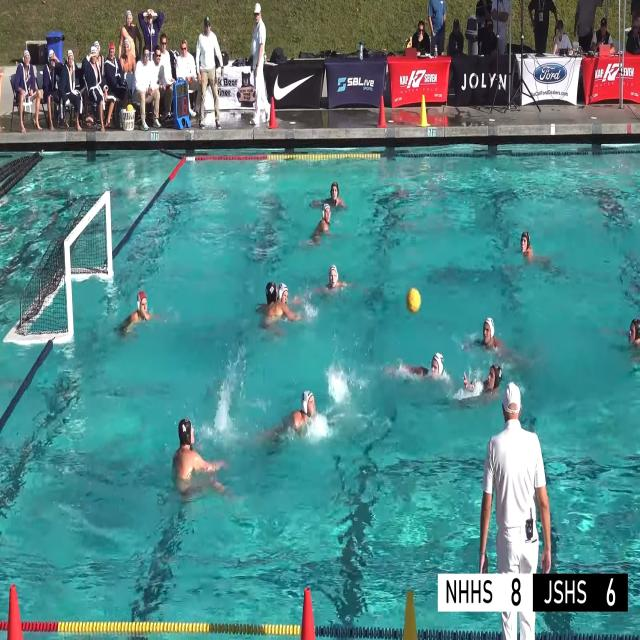ball: (406, 288, 421, 314), (126, 104, 134, 118)
